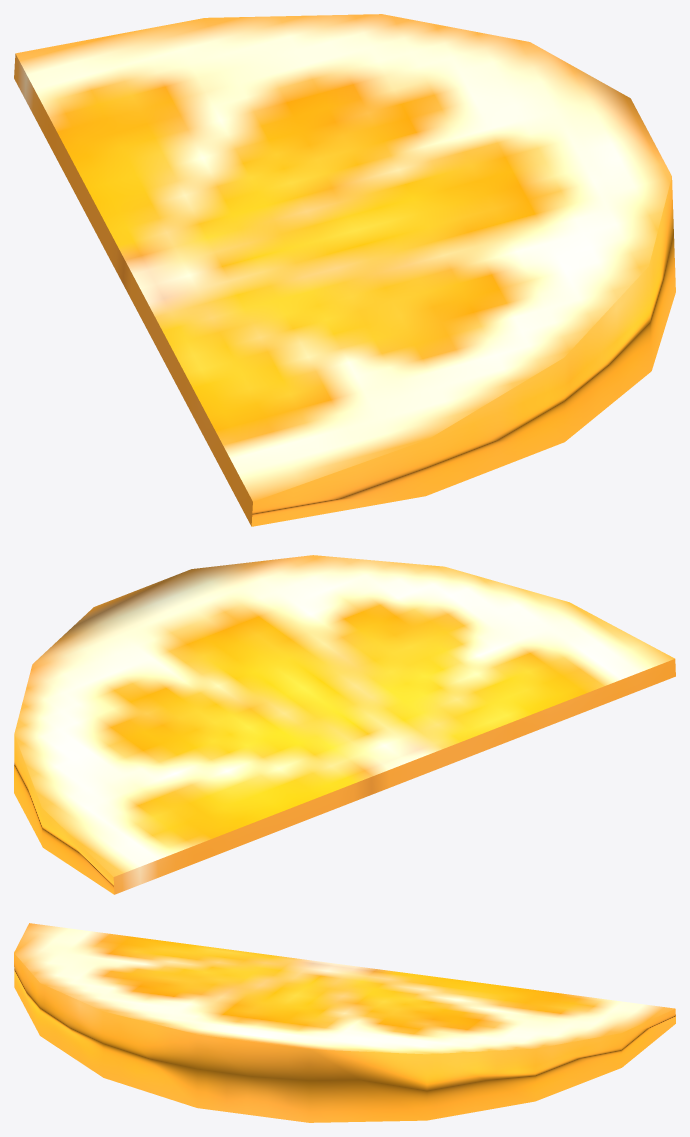
3 renders of one model, top to bottom at view 1: azimuth 30°, elevation 25°; view 2: azimuth 150°, elevation 25°; view 3: azimuth 270°, elevation 25°, orthographic. The views are drawn at different scales.
Parts seen in each view (by area): view 1: LemonSlice; view 2: LemonSlice; view 3: LemonSlice.
Boxes of the visible parts, x1=… form: LemonSlice: x1=14, y1=14, x2=675, y2=526; LemonSlice: x1=14, y1=555, x2=675, y2=894; LemonSlice: x1=14, y1=923, x2=675, y2=1122.
Size of the model in its own units: 0.0589 by 0.0108 by 0.0892.
1 material, 1 textured.
